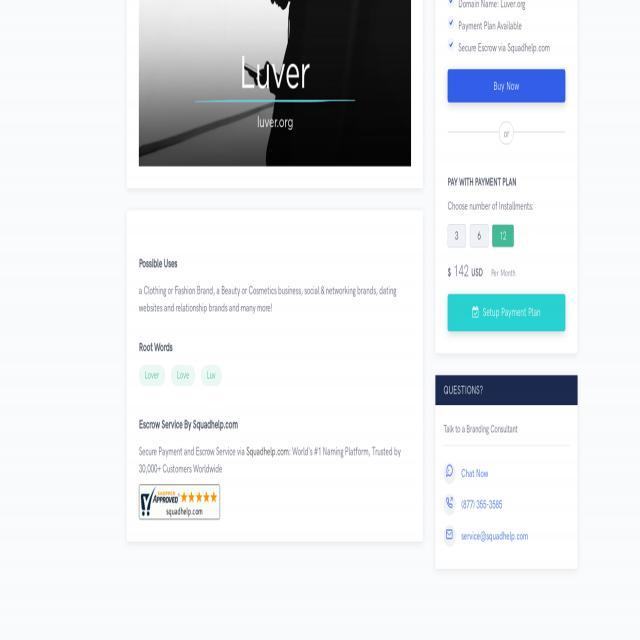button: (139, 0, 411, 167), (447, 294, 565, 332), (447, 69, 565, 103), (138, 484, 220, 520), (171, 364, 195, 387), (492, 224, 514, 248), (140, 366, 164, 386), (202, 366, 222, 386), (448, 225, 466, 247), (470, 225, 488, 247), (444, 461, 455, 485), (443, 525, 455, 546), (444, 494, 456, 514)
field: (447, 16, 455, 29), (447, 38, 455, 51), (447, 0, 455, 7)
